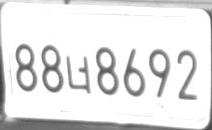2: (177, 49, 197, 100)
6: (123, 48, 145, 97)
8: (95, 46, 119, 95), (14, 42, 37, 92), (41, 44, 63, 92)
9: (148, 48, 170, 98)
너: (65, 55, 91, 94)
